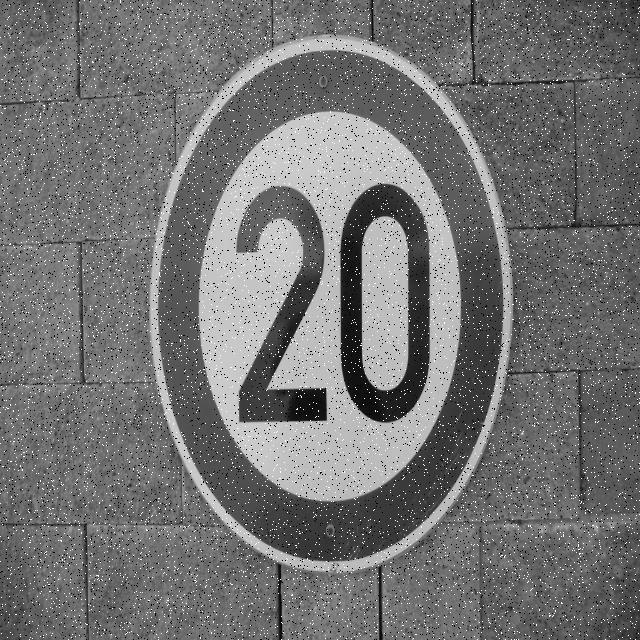speedlimit_20: (150, 36, 512, 553)
